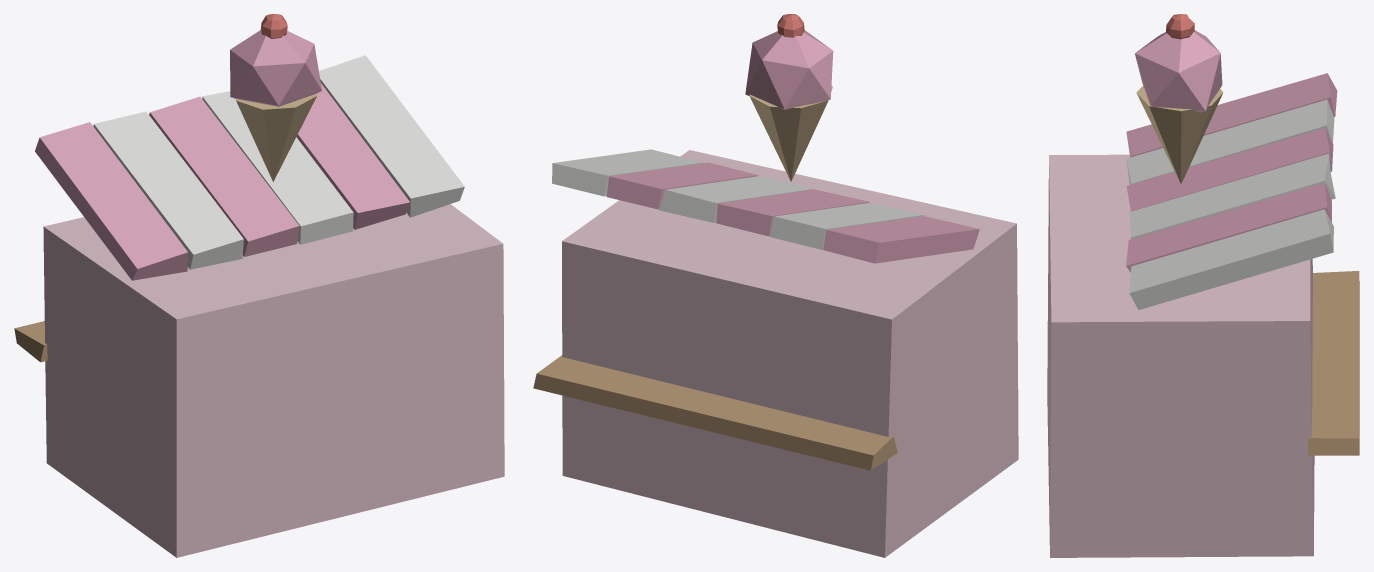
The model's file is icecreamstall.fbx.
The picture shows the model from 3 angles, left to right: view 1: azimuth 30°, elevation 25°; view 2: azimuth 150°, elevation 25°; view 3: azimuth 270°, elevation 25°; orthographic projection.
Parts seen in each view (by area): view 1: IceCreamStall; view 2: IceCreamStall; view 3: IceCreamStall.
Boxes of the visible parts, box(x1,y1,x2,y2) form: IceCreamStall: box(14, 14, 504, 557); IceCreamStall: box(533, 14, 1018, 557); IceCreamStall: box(1047, 14, 1359, 557).
Size of the model in its own units: 2.73 by 3.5 by 2.14.
